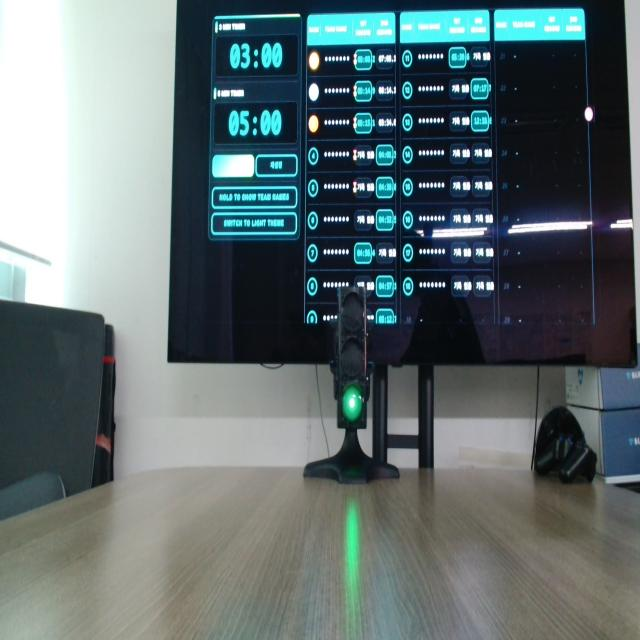green_light: (343, 384, 363, 422)
